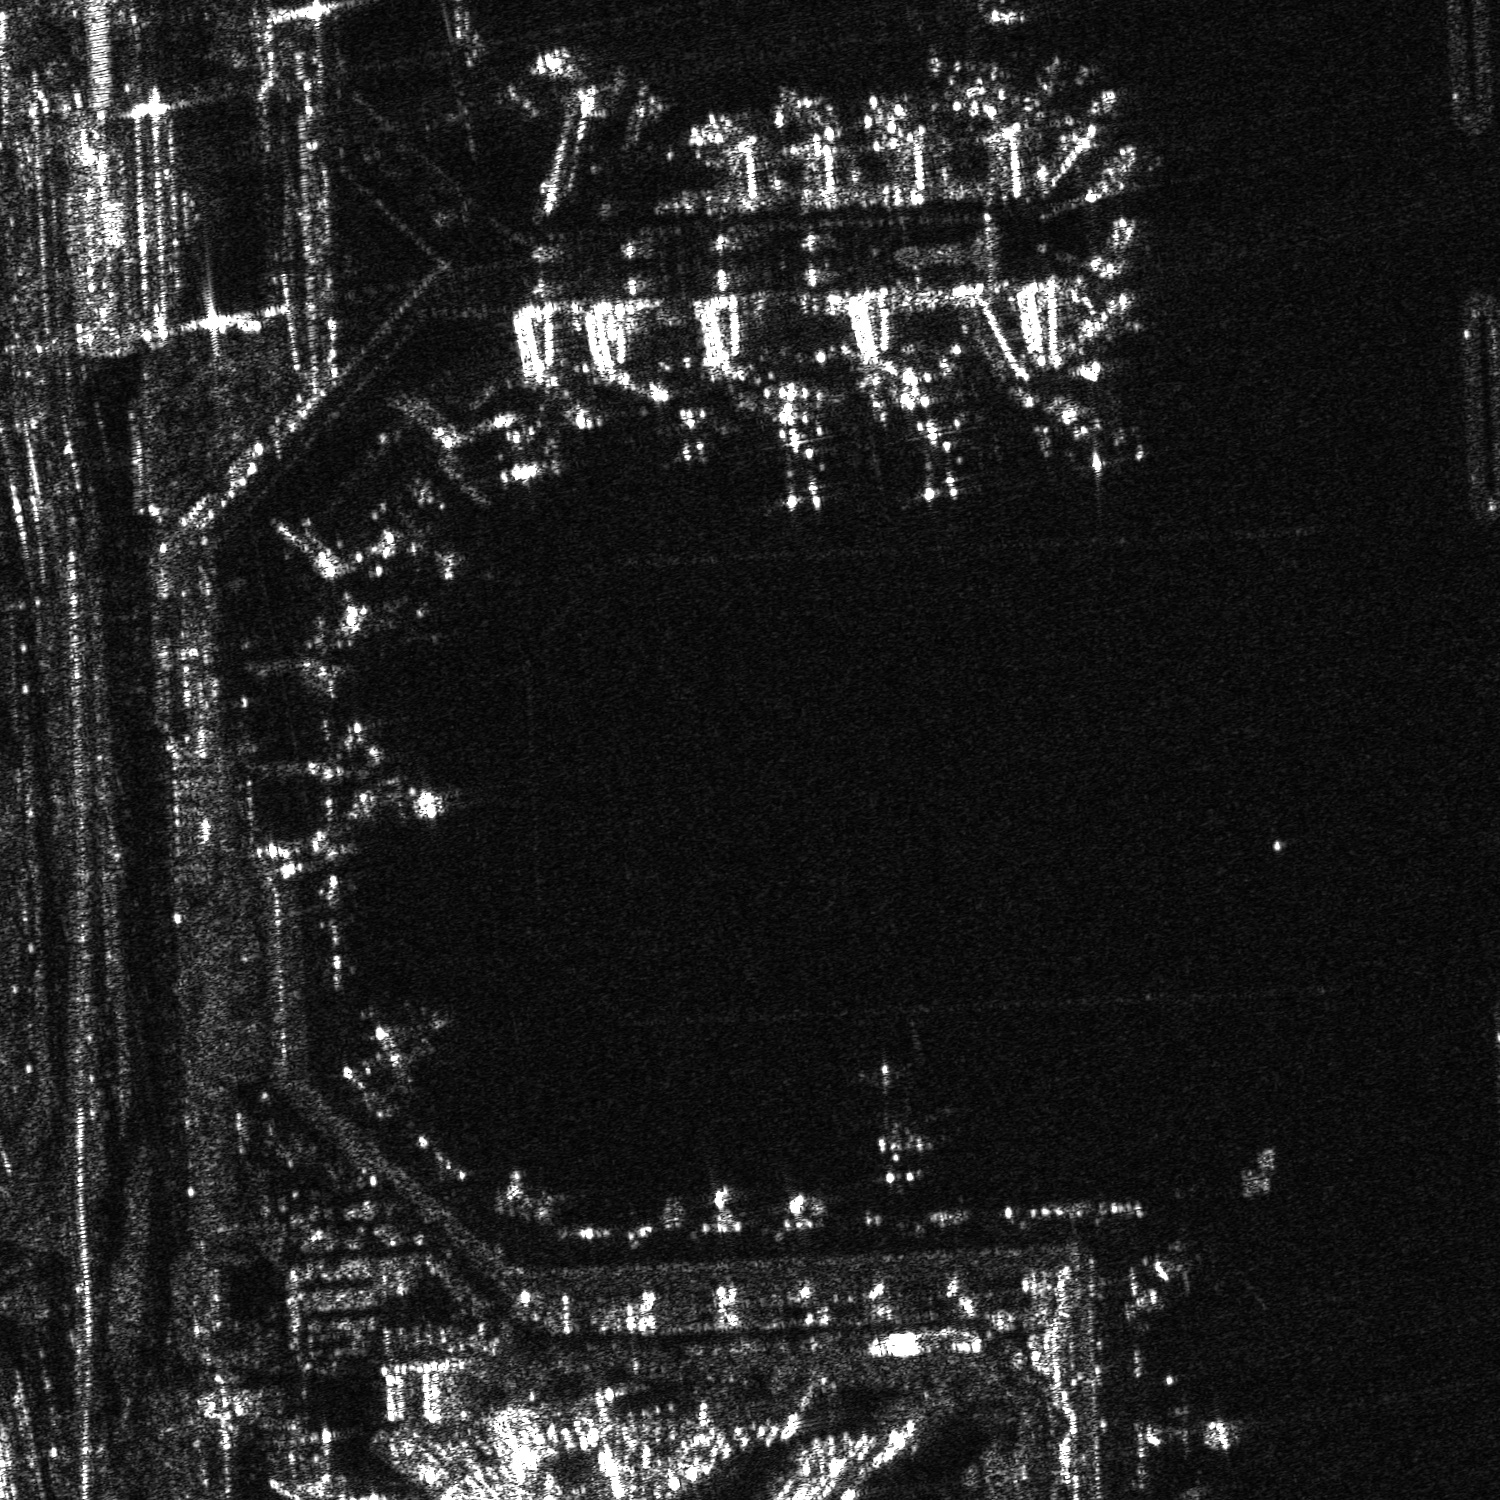A220: (924, 1, 1038, 102), (1137, 1393, 1251, 1471), (652, 389, 749, 471), (361, 1011, 451, 1085), (1140, 1231, 1223, 1299)
Boeing737: (1032, 391, 1159, 479)
Boeing787: (749, 396, 838, 516), (863, 1118, 944, 1199)
other: (883, 387, 971, 519)
